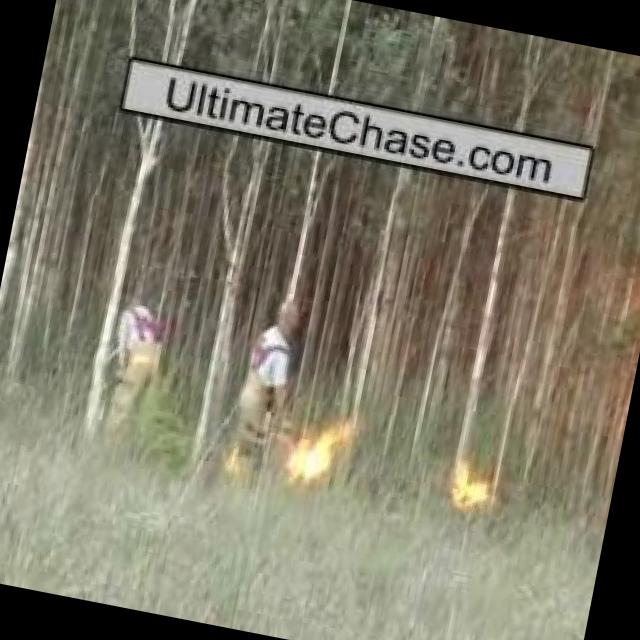Fire: (285, 422, 349, 487), (450, 472, 495, 520), (223, 452, 240, 476)
